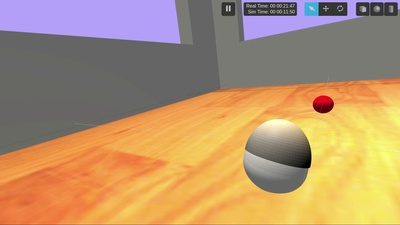mira_robot: (243, 119, 312, 193)
